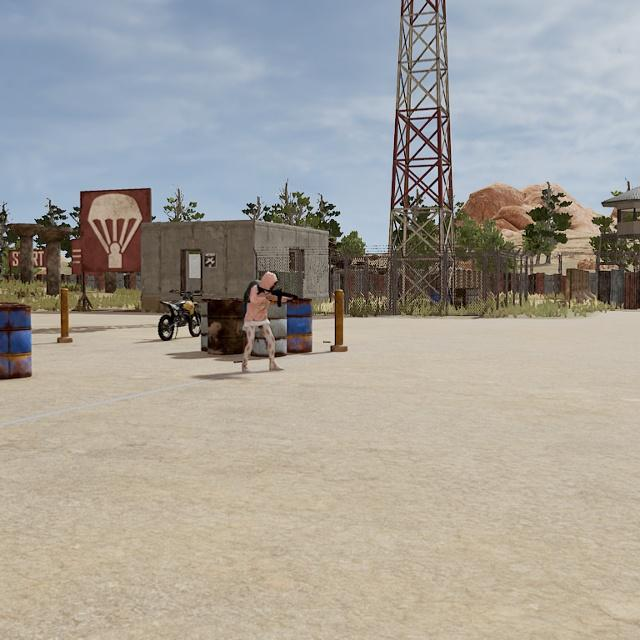head: (259, 272, 280, 294)
people: (238, 270, 287, 374)
